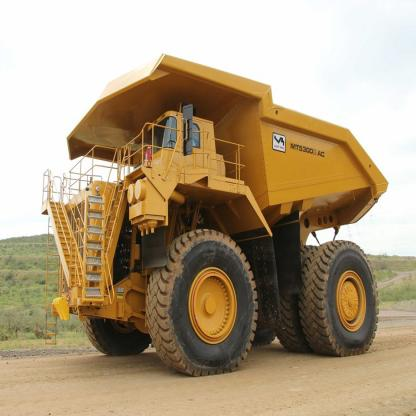dump_truck: (38, 42, 388, 366)
